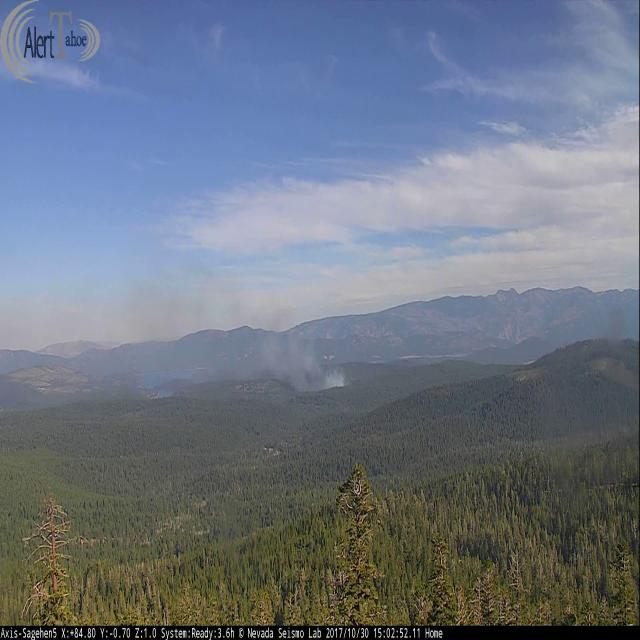smoke: (172, 268, 357, 400)
